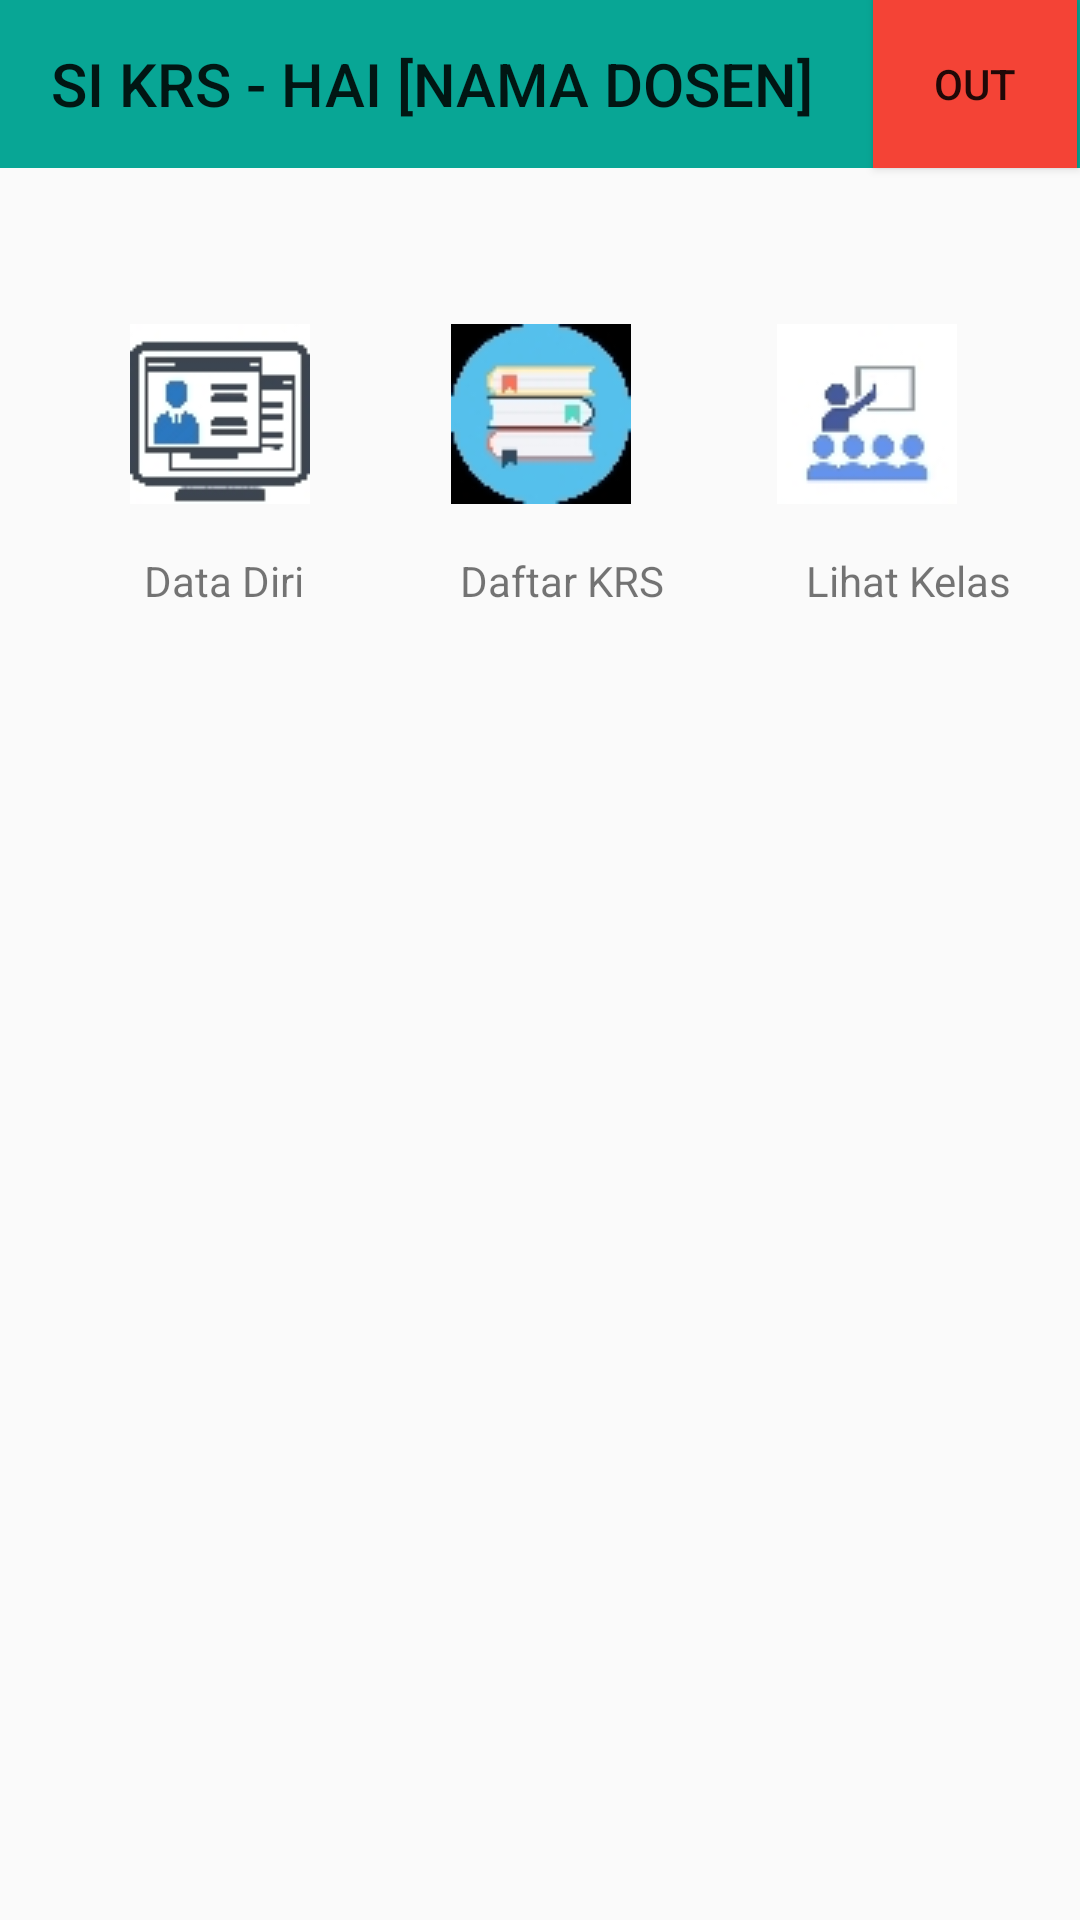

Locate icon controls on the screen. Image size 1080x1920, boxes as (x1, y1, x2, y2).
matkul: (451, 324, 631, 504)
